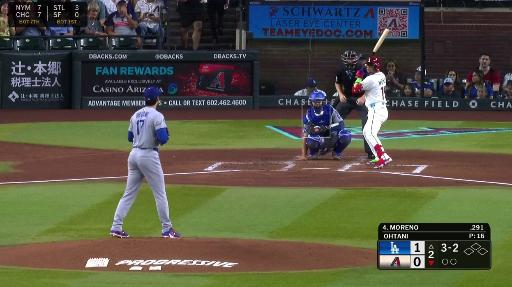pitcher: (111, 87, 182, 240)
